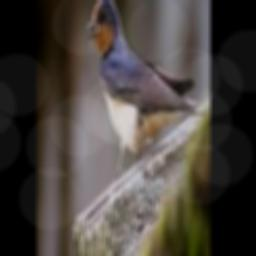Swallow: (86, 0, 198, 179)
